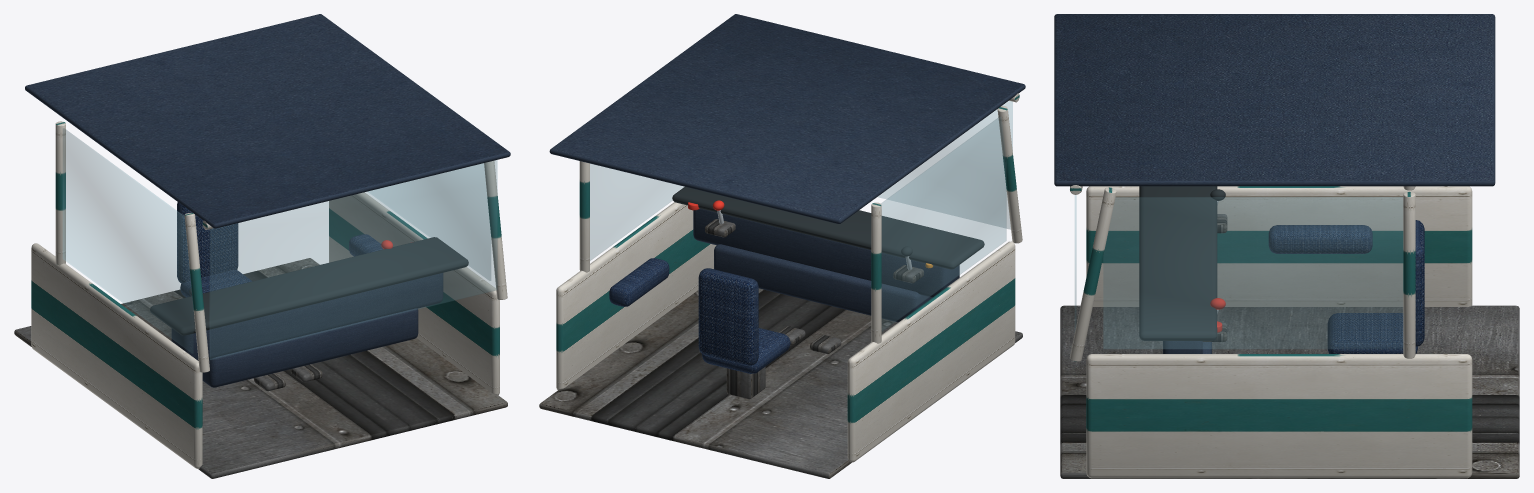
The model's file is train-cab.glb.
The picture shows the model from 3 angles, left to right: view 1: azimuth 30°, elevation 25°; view 2: azimuth 150°, elevation 25°; view 3: azimuth 270°, elevation 25°; orthographic projection. The views are drawn at different scales.
Parts seen in each view (by area): view 1: Roof lining, Front safety glazing, Cab floor, Cab lower sidewall, Side safety glazing, Panel top glare shield, Cab lower sidewall.001, Blank instrument panel, Side safety glazing.001, Panel lower console, Seat back, Front window side pillar (+4 smaller); view 2: Roof lining, Cab floor, Cab lower sidewall, Side safety glazing, Cab lower sidewall.001, Front safety glazing, Panel top glare shield, Blank instrument panel, Panel lower console, Seat back, Side safety glazing.001, Cab armrest.001 (+5 smaller); view 3: Roof lining, Cab lower sidewall.001, Side safety glazing.001, Cab lower sidewall, Cab floor, Panel top glare shield, Seat cushion, Cab armrest, Front window side pillar.001, Side window rear pillar.001, Seat back, Blank instrument panel.
Part boxes in pixels (x1,y1,x2,y2): Roof lining: [25, 14, 510, 228]; Front safety glazing: [210, 160, 497, 359]; Cab floor: [14, 258, 507, 478]; Cab lower sidewall: [31, 243, 202, 468]; Side safety glazing: [63, 128, 193, 353]; Panel top glare shield: [150, 237, 468, 335]; Cab lower sidewall.001: [329, 192, 499, 395]; Blank instrument panel: [171, 273, 443, 360]; Side safety glazing.001: [369, 163, 490, 280]; Panel lower console: [202, 308, 418, 387]; Seat back: [177, 202, 238, 283]; Front window side pillar: [184, 212, 209, 372]; Roof lining: [549, 14, 1025, 223]; Cab floor: [539, 288, 1022, 478]; Cab lower sidewall: [847, 241, 1015, 462]; Side safety glazing: [881, 117, 1006, 331]; Cab lower sidewall.001: [556, 202, 716, 389]; Front safety glazing: [878, 101, 1012, 229]; Panel top glare shield: [672, 186, 984, 269]; Blank instrument panel: [693, 208, 959, 297]; Panel lower console: [714, 244, 931, 322]; Seat back: [698, 268, 758, 365]; Side safety glazing.001: [590, 164, 683, 260]; Cab armrest.001: [609, 258, 669, 306]; Roof lining: [1054, 14, 1495, 186]; Cab lower sidewall.001: [1086, 354, 1472, 478]; Side safety glazing.001: [1103, 197, 1402, 348]; Cab lower sidewall: [1086, 186, 1472, 306]; Cab floor: [1060, 305, 1519, 478]; Panel top glare shield: [1139, 186, 1217, 340]; Seat cushion: [1327, 313, 1417, 353]; Cab armrest: [1268, 225, 1372, 253]; Front window side pillar.001: [1070, 187, 1116, 361]; Side window rear pillar.001: [1403, 192, 1415, 358]; Seat back: [1415, 220, 1424, 346]; Blank instrument panel: [1163, 341, 1202, 353].
Bounding box in the file's own units: 2.68 × 2.15 × 3.04.
Materials: 9 (4 with a texture image).
